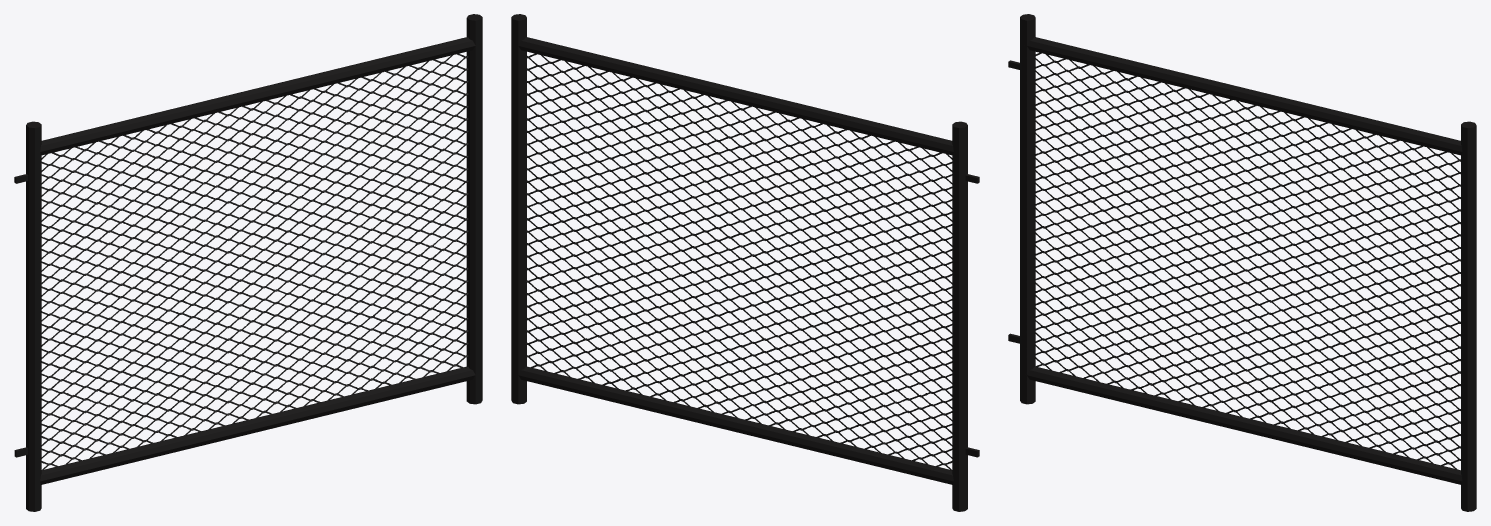
The model's file is BasketBall_Fence002.fbx.
3 renders of one model, left to right at view 1: azimuth 30°, elevation 25°; view 2: azimuth 150°, elevation 25°; view 3: azimuth 330°, elevation 25°, orthographic.
Parts seen in each view (by area): view 1: Fence002; view 2: Fence002; view 3: Fence002.
Boxes of the visible parts, bbox=[...] form: Fence002: bbox=[14, 14, 482, 511]; Fence002: bbox=[511, 14, 979, 511]; Fence002: bbox=[1008, 14, 1476, 511].
Bounding box in the file's own units: 177 × 4.84 × 140.
